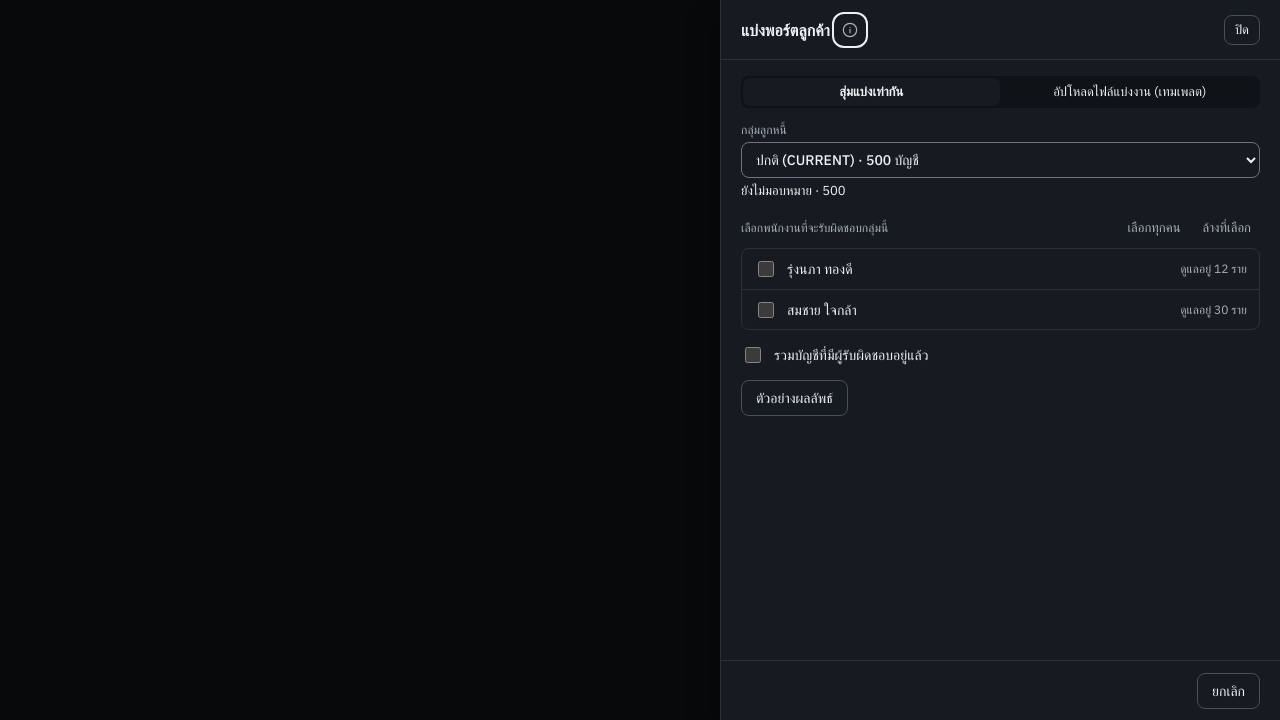
Test: the portfolio split drawer (F10b, F10c) › disables the confirm with its reason when the preview deals nothing
This screenshot has width=1280, height=720.
Click the checkbox labelled "รุ่งนภา ทองดี ดูแลอยู่ 12 ราย": (766, 269) [758,261,774,277]
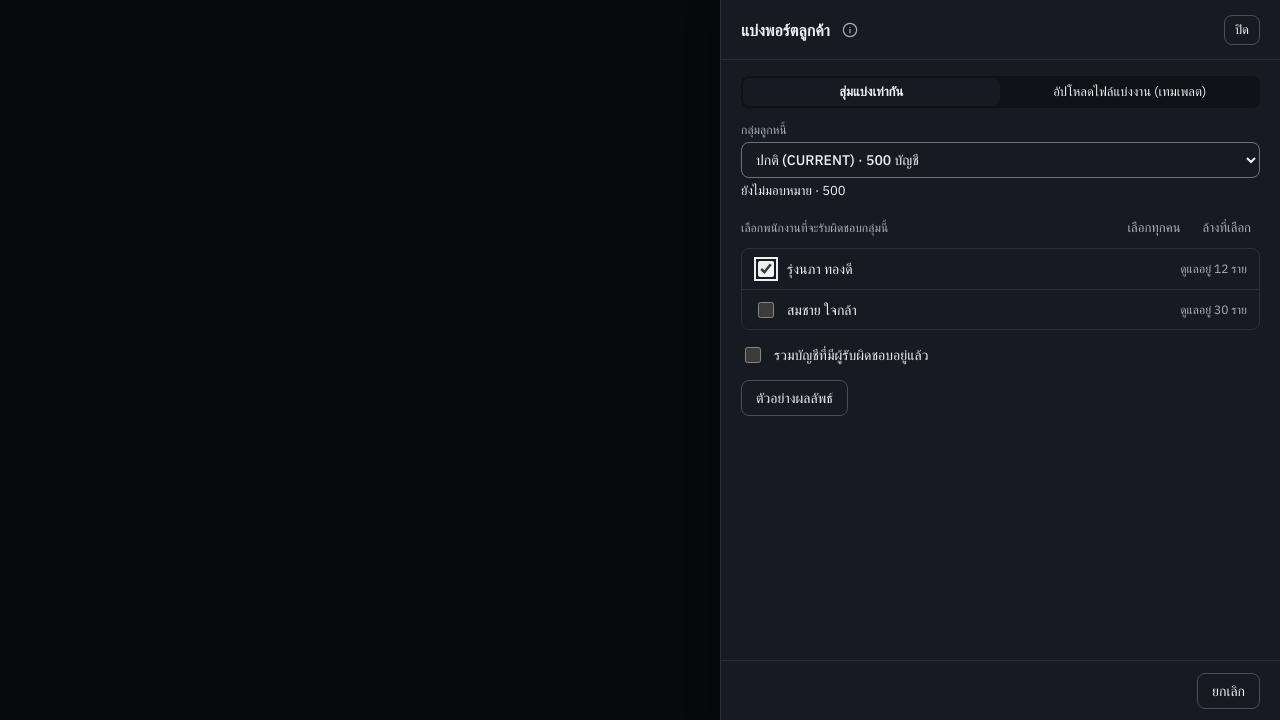
Click the button "ตัวอย่างผลลัพธ์": (794, 398) [741,380,848,416]
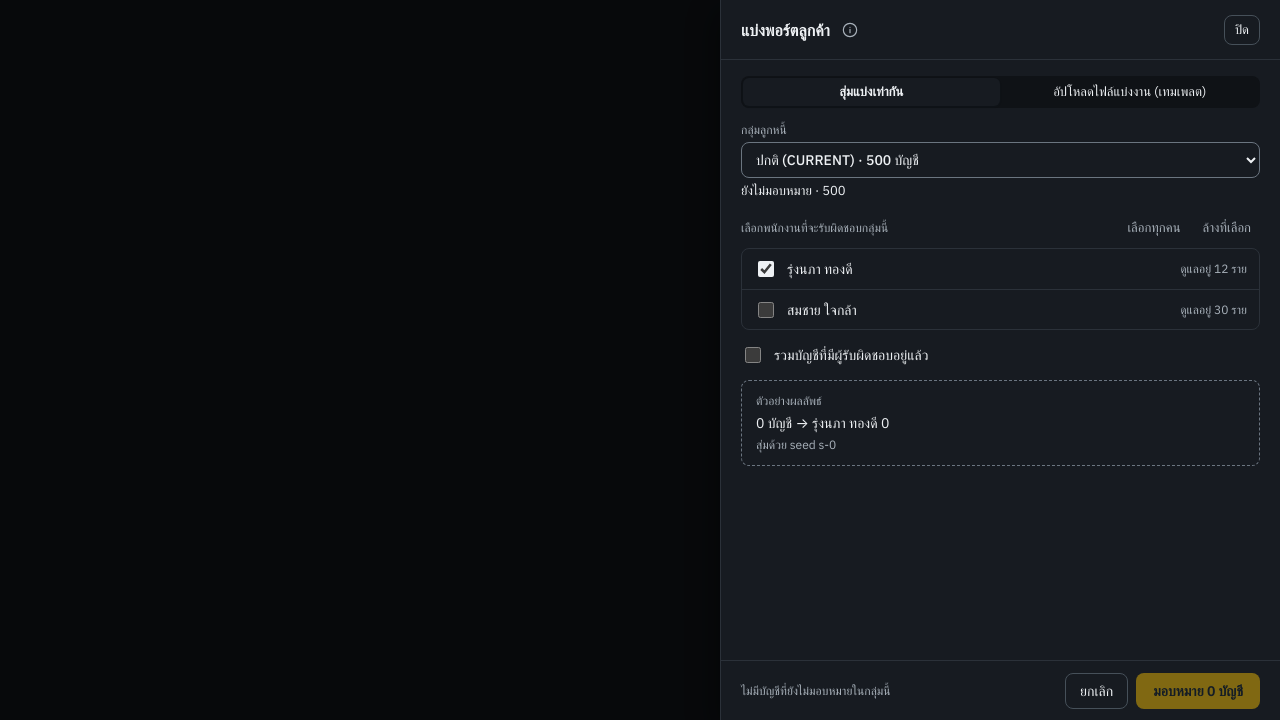
Expected: the button "มอบหมาย 0 บัญชี" is disabled, [1136,672,1260,708]
Expected: the text "ไม่มีบัญชีที่ยังไม่มอบหมายในกลุ่มนี้" is shown, [741,682,891,698]
